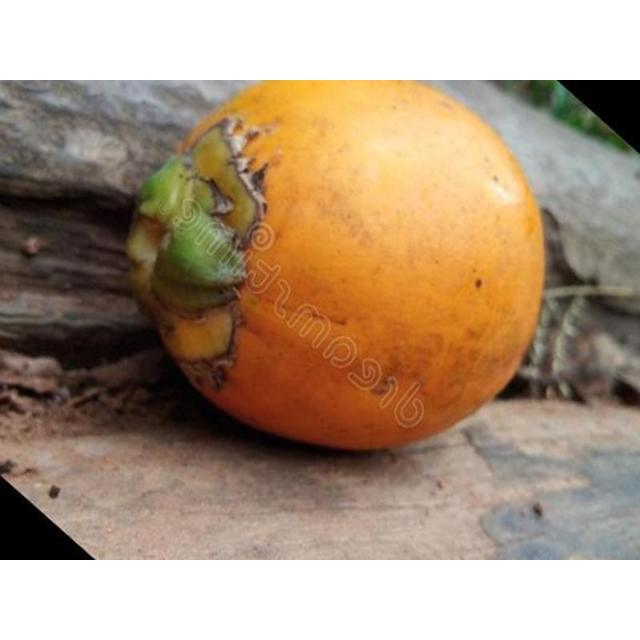good: (126, 80, 547, 454)
